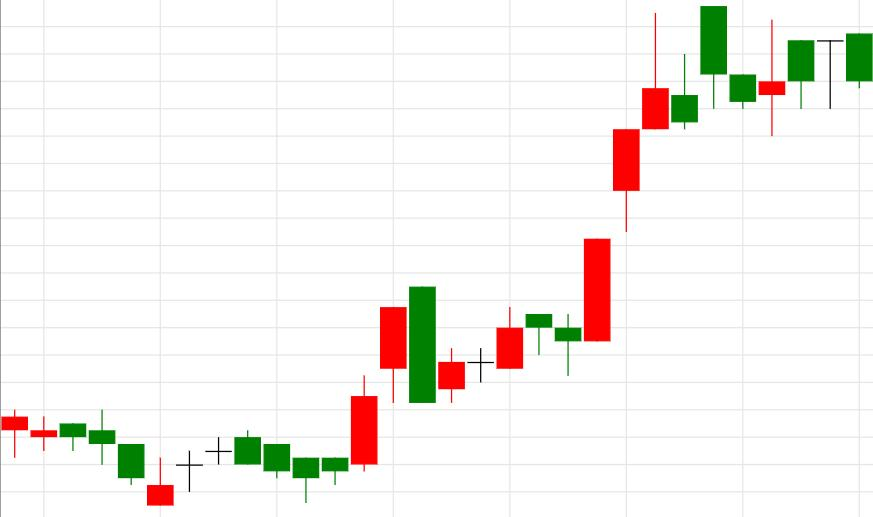bearish_engulfing_fall: (292, 286, 436, 503)
shooting_star_fall: (438, 12, 668, 403)
